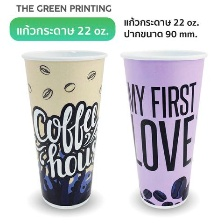paper_cup: (116, 43, 210, 213), (16, 44, 110, 213)
